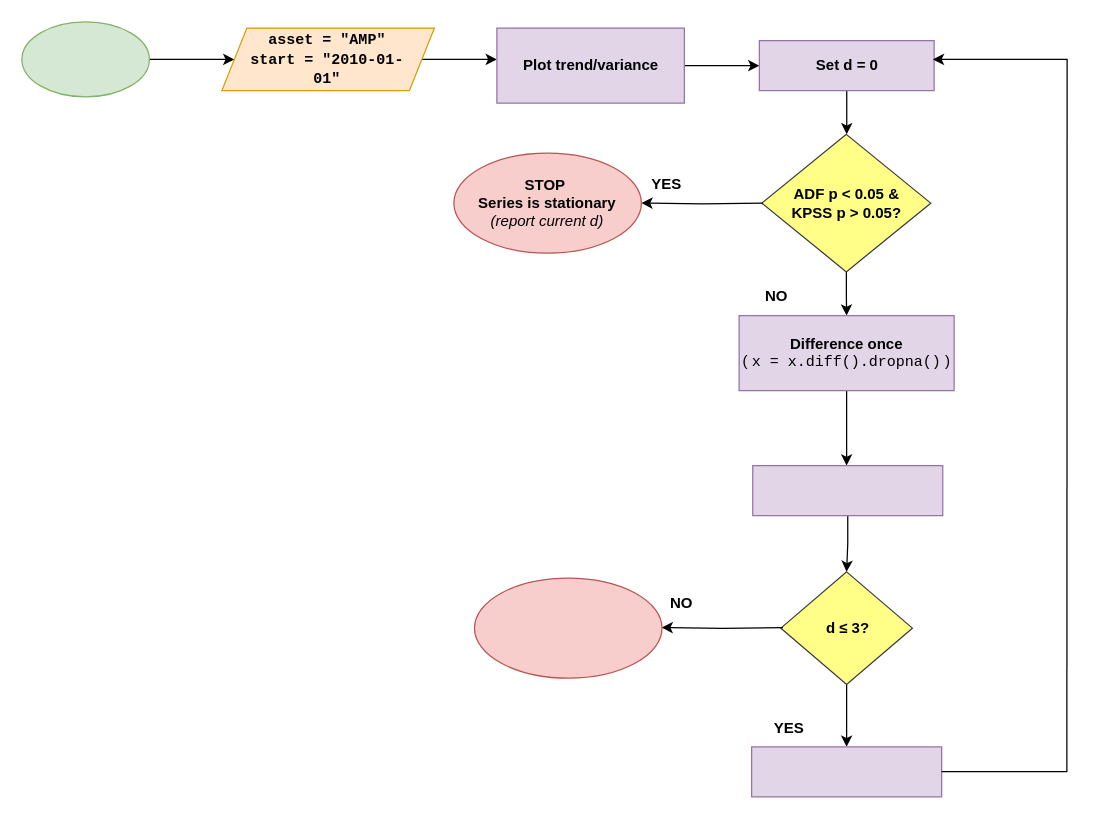
Some shapes in this 1100 by 819 pixel diagram are drawn without their labels. Here are the shapes that lost their labels. From the top down, the centre of each, then its label:
At (x=85, y=59): "START".
At (x=847, y=490): "Increase d by 1".
At (x=567, y=627): "STOP Stationarity not achieved (d > 3; try transforms)".
At (x=846, y=771): "Re-run ADF & KPSS tests".
